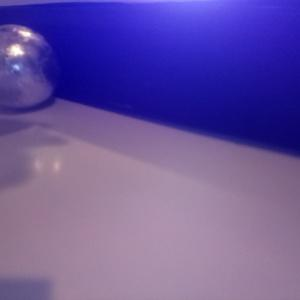alive_ball: (1, 24, 56, 108)
